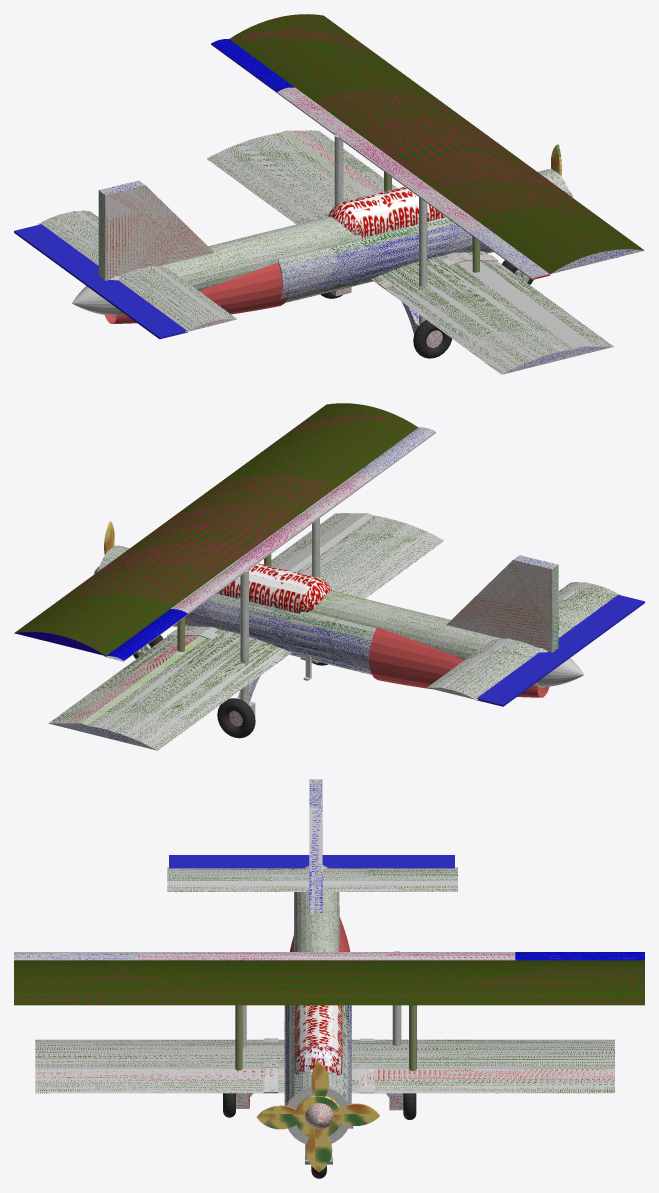
The picture shows the model from 3 angles, top to bottom: view 1: azimuth 30°, elevation 25°; view 2: azimuth 150°, elevation 25°; view 3: azimuth 270°, elevation 25°; orthographic projection. The views are drawn at different scales.
Visible parts, largest first — view 1: mesh104_mesh104-geometry, mesh105_mesh105-geometry, mesh107_mesh107-geometry, mesh106_mesh106-geometry, mesh23.001_mesh23-geometry, mesh7.001_mesh7-geometry, mesh109_mesh109-geometry, mesh2.004_mesh2-geometry, mesh110_mesh110-geometry, mesh1.001_mesh1-geometry; view 2: mesh104_mesh104-geometry, mesh105_mesh105-geometry, mesh107_mesh107-geometry, mesh106_mesh106-geometry, mesh23.001_mesh23-geometry, mesh7.001_mesh7-geometry, mesh110_mesh110-geometry, mesh2.003_mesh2-geometry, mesh1.001_mesh1-geometry; view 3: mesh104_mesh104-geometry, mesh105_mesh105-geometry, mesh106_mesh106-geometry, mesh23.001_mesh23-geometry, mesh107_mesh107-geometry, mesh12.001_mesh12-geometry, mesh13.001_mesh13-geometry, mesh15.001_mesh15-geometry, mesh14.001_mesh14-geometry, mesh110_mesh110-geometry.
Boxes of the visible parts, x1,y1,x2,y2 form: mesh104_mesh104-geometry: [207, 14, 644, 374]; mesh105_mesh105-geometry: [112, 169, 572, 316]; mesh107_mesh107-geometry: [98, 180, 214, 280]; mesh106_mesh106-geometry: [38, 210, 236, 331]; mesh23.001_mesh23-geometry: [14, 224, 187, 339]; mesh7.001_mesh7-geometry: [104, 263, 288, 323]; mesh109_mesh109-geometry: [414, 197, 442, 347]; mesh2.004_mesh2-geometry: [413, 320, 451, 358]; mesh110_mesh110-geometry: [330, 134, 351, 296]; mesh1.001_mesh1-geometry: [72, 276, 122, 315]; mesh104_mesh104-geometry: [14, 403, 444, 750]; mesh105_mesh105-geometry: [94, 545, 544, 687]; mesh107_mesh107-geometry: [446, 555, 558, 652]; mesh106_mesh106-geometry: [427, 582, 620, 700]; mesh23.001_mesh23-geometry: [476, 594, 644, 706]; mesh7.001_mesh7-geometry: [369, 627, 549, 697]; mesh110_mesh110-geometry: [229, 569, 255, 726]; mesh2.003_mesh2-geometry: [217, 698, 255, 738]; mesh1.001_mesh1-geometry: [535, 648, 583, 686]; mesh104_mesh104-geometry: [14, 952, 644, 1093]; mesh105_mesh105-geometry: [284, 865, 351, 1144]; mesh106_mesh106-geometry: [167, 867, 457, 891]; mesh23.001_mesh23-geometry: [169, 855, 454, 868]; mesh107_mesh107-geometry: [309, 779, 322, 914]; mesh12.001_mesh12-geometry: [295, 1095, 341, 1138]; mesh13.001_mesh13-geometry: [256, 1105, 296, 1129]; mesh15.001_mesh15-geometry: [306, 1137, 332, 1172]; mesh14.001_mesh14-geometry: [340, 1103, 379, 1125]; mesh110_mesh110-geometry: [389, 951, 403, 1110].
Size of the model in its own units: 0.6474 by 0.2569 by 0.7175.
